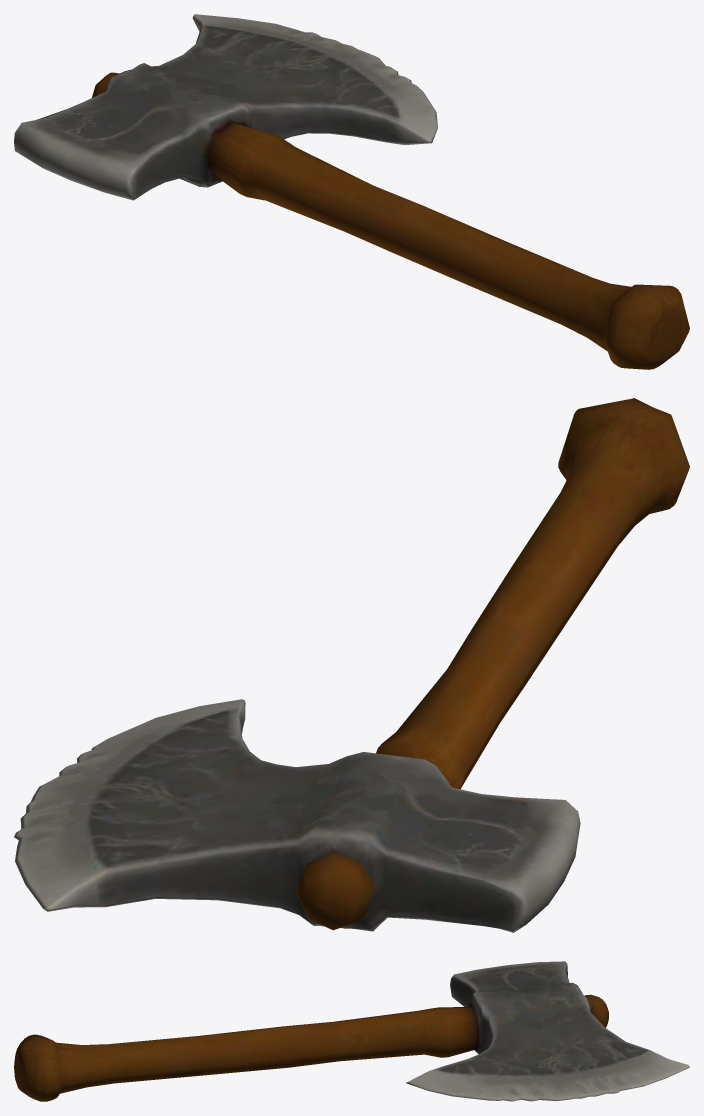
Rendered from war_axe.fbx.
3 renders of one model, top to bottom at view 1: azimuth 30°, elevation 25°; view 2: azimuth 150°, elevation 25°; view 3: azimuth 270°, elevation 25°, orthographic. The views are drawn at different scales.
Visible parts, largest first — view 1: tripo_node_071ea4a5-01ec-4166-8035-65d98b4b7d9d; view 2: tripo_node_071ea4a5-01ec-4166-8035-65d98b4b7d9d; view 3: tripo_node_071ea4a5-01ec-4166-8035-65d98b4b7d9d.
Boxes of the visible parts, left/top/right/bottom form: tripo_node_071ea4a5-01ec-4166-8035-65d98b4b7d9d: left=14, top=14, right=689, bottom=369; tripo_node_071ea4a5-01ec-4166-8035-65d98b4b7d9d: left=14, top=398, right=689, bottom=932; tripo_node_071ea4a5-01ec-4166-8035-65d98b4b7d9d: left=14, top=961, right=689, bottom=1101.
Bounding box in the file's own units: 0.7131 × 0.1498 × 1.56.
1 material, 1 textured.
